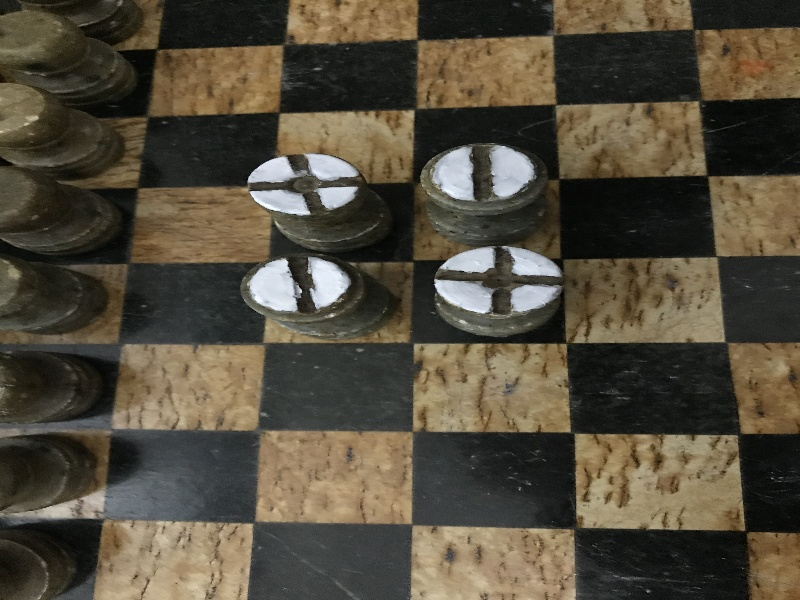WhiteBishop: (248, 153, 387, 251), (434, 246, 562, 337)
WhiteRook: (238, 252, 393, 339), (419, 143, 550, 245)
